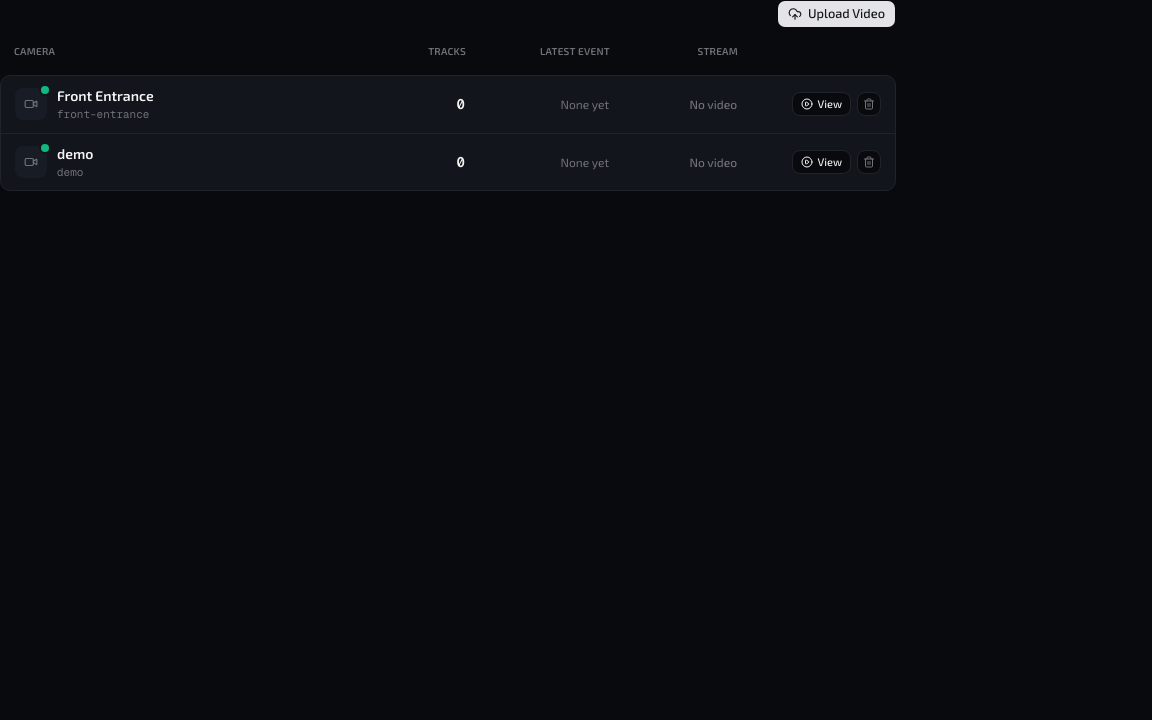
Test: CamerasView delete action › requires the extra typed confirmation when deleting the "demo" row specifically
Click the button named "Delete camera demo" at x=869, y=162, box [857,150,881,174]
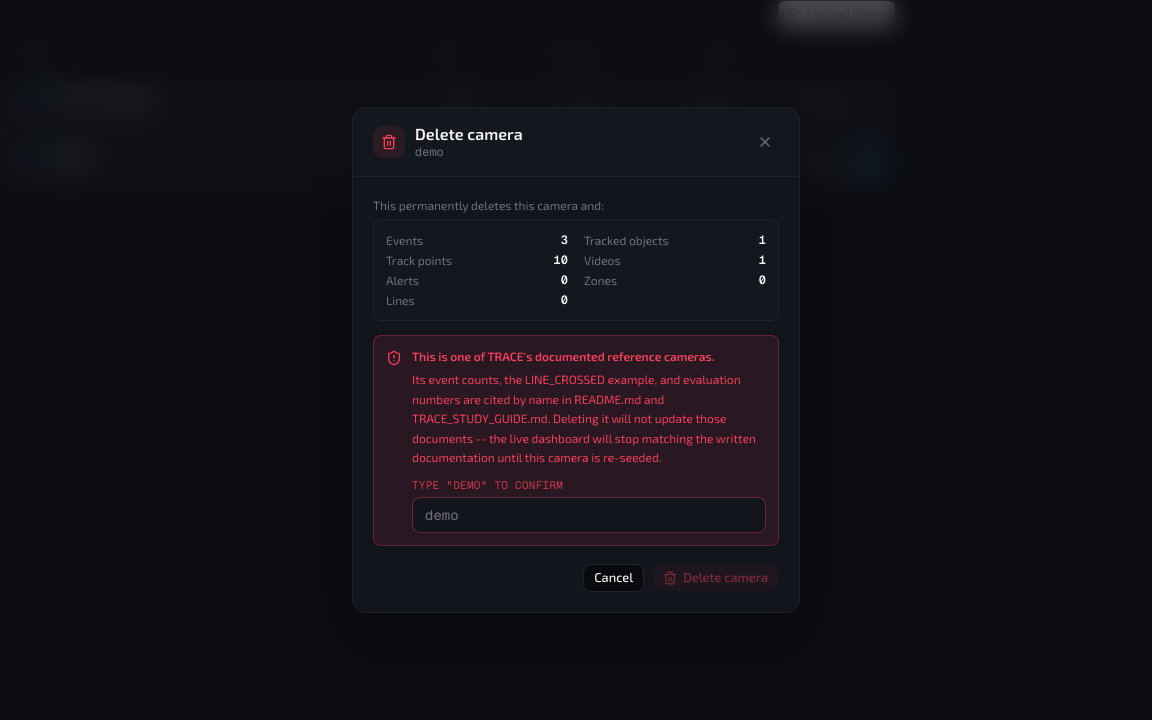
Result: the text "This is one of TRACE's documented reference cameras." is shown at [412,348,766,364]
Result: the button "Delete camera" is disabled at [652,564,779,592]
